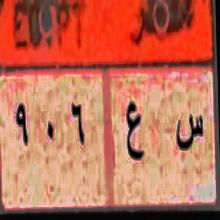0: (44, 117, 56, 155)
6: (70, 98, 88, 153)
9: (14, 101, 29, 155)
ain: (124, 91, 146, 172)
seen: (173, 103, 204, 160)
